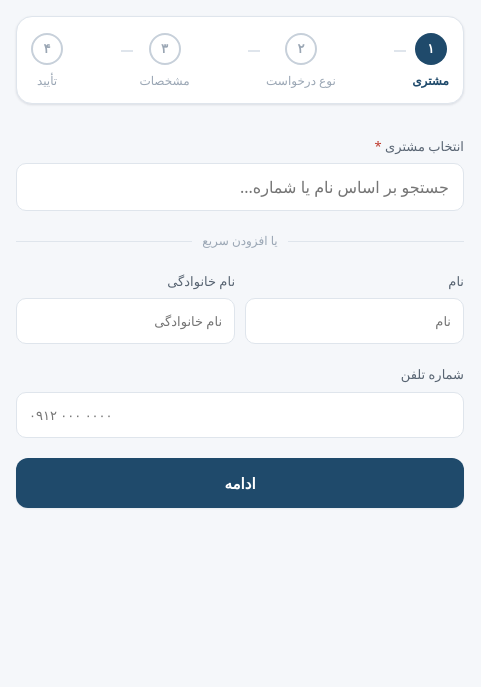
Test: RequestWizardScreen › step 3 rent branch shows money fields
In the field with placeholder "نام": x=354, y=322 [245,298,464,344], type "علی"
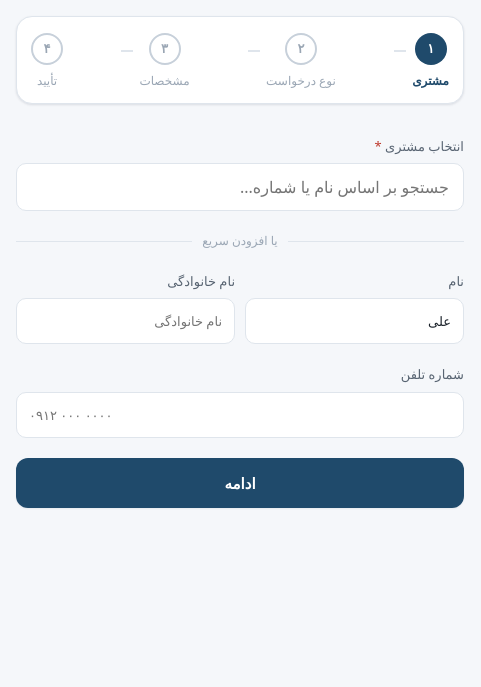
In the field with placeholder "نام خانوادگی": x=126, y=322 [16,298,235,344], type "رضایی"
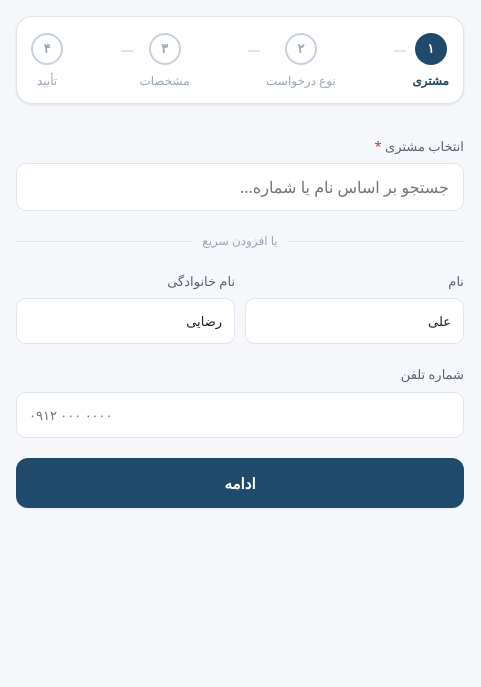
In the field with placeholder "۰۹۱۲ ۰۰۰ ۰۰۰۰": x=240, y=415 [16,392,464,438], type "09121112233"
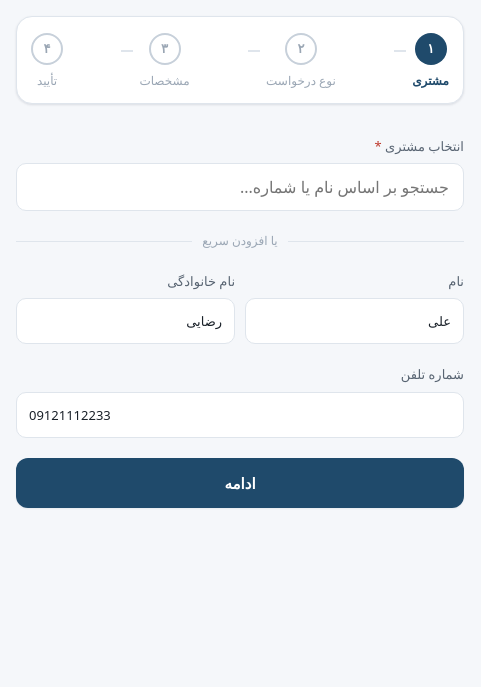
Click the button "ادامه": x=240, y=483 [16,458,464,508]
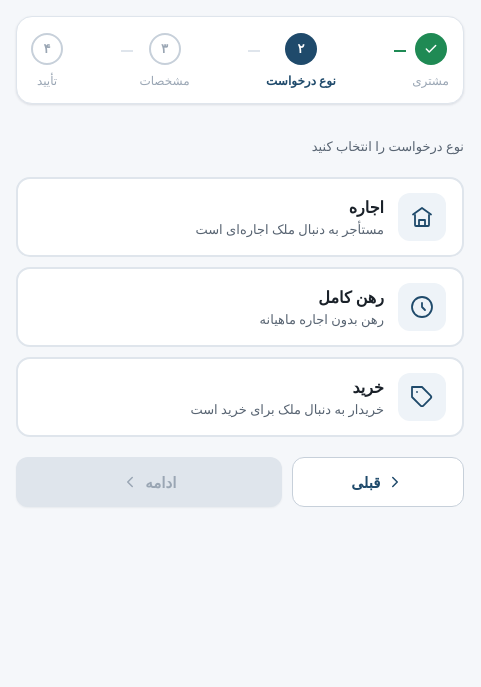
Check: the text "نوع درخواست را انتخاب کنید" is shown, box [312,137,464,155]
Click the text "اجاره": x=366, y=207 [349,196,384,218]
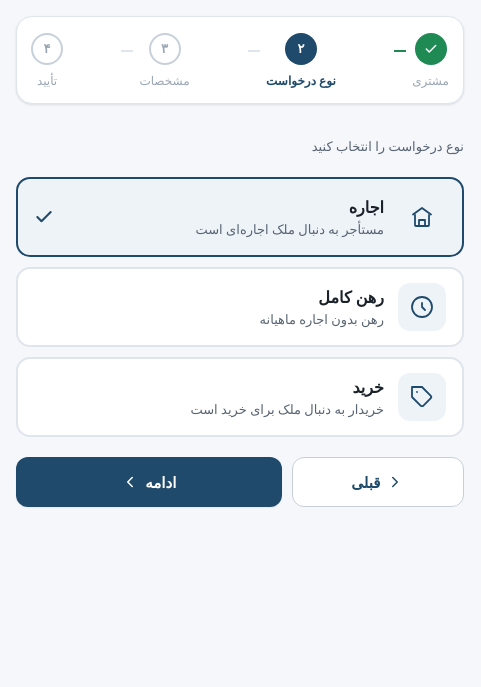
Click the button "ادامه": x=149, y=482 [16,457,282,507]
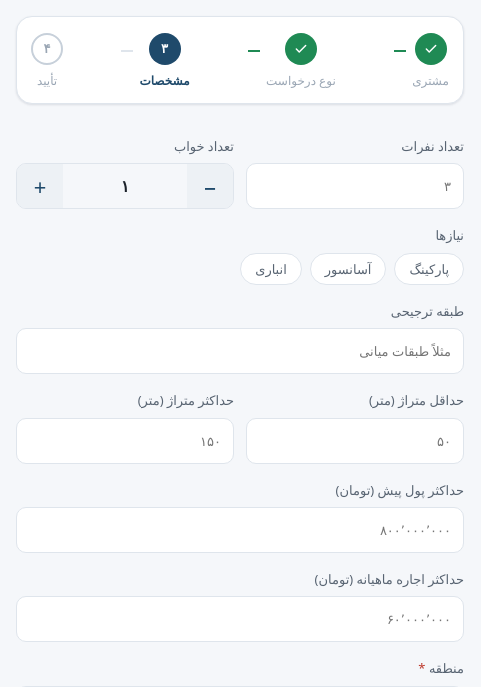
Check: the text "حداکثر پول پیش (تومان)" is shown, box [336,480,464,498]
Check: the text "حداکثر اجاره ماهیانه (تومان)" is shown, box [314,570,464,588]
